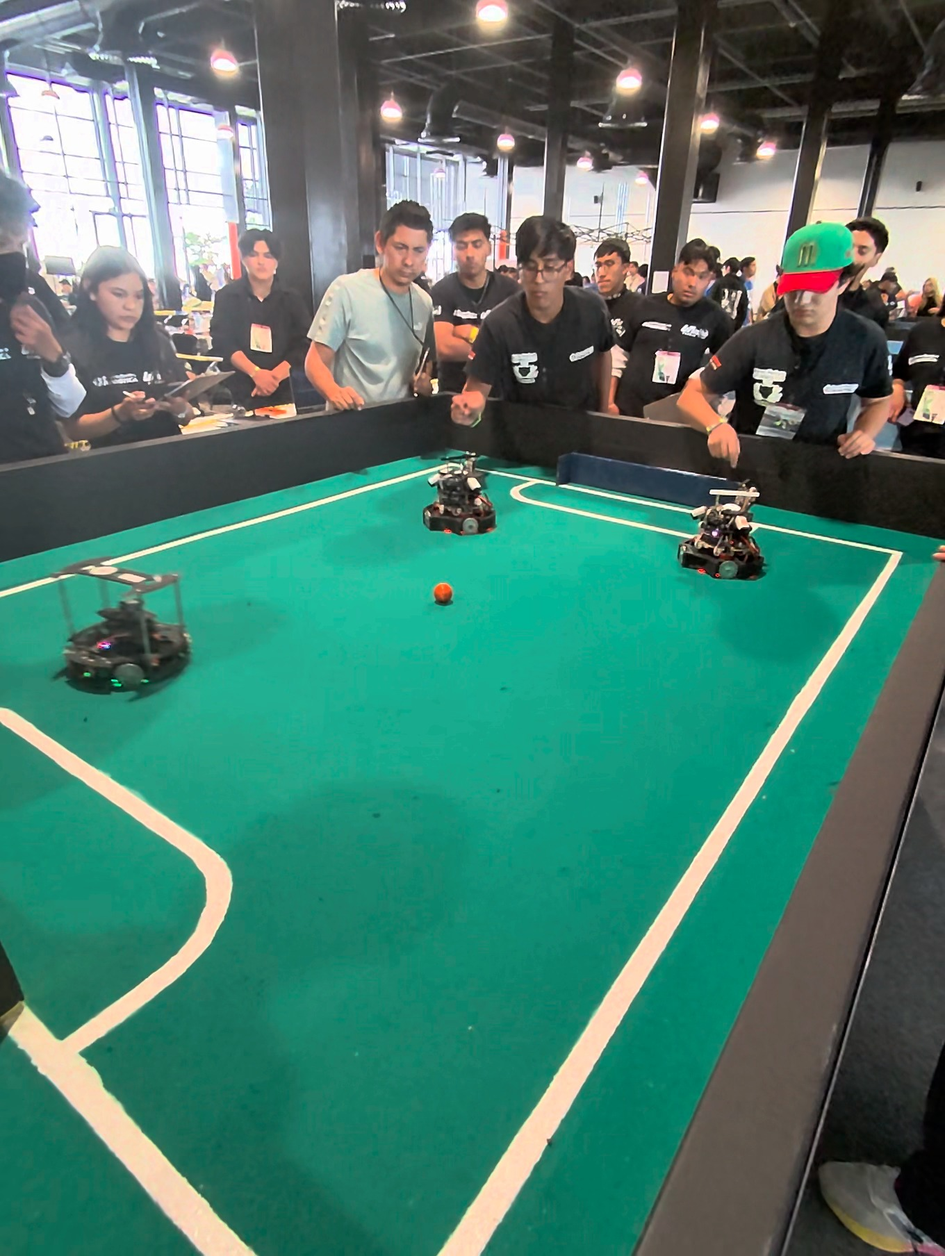Robot: (55, 553, 194, 700), (681, 483, 771, 588), (422, 452, 497, 541)
pelota: (433, 582, 450, 600)
